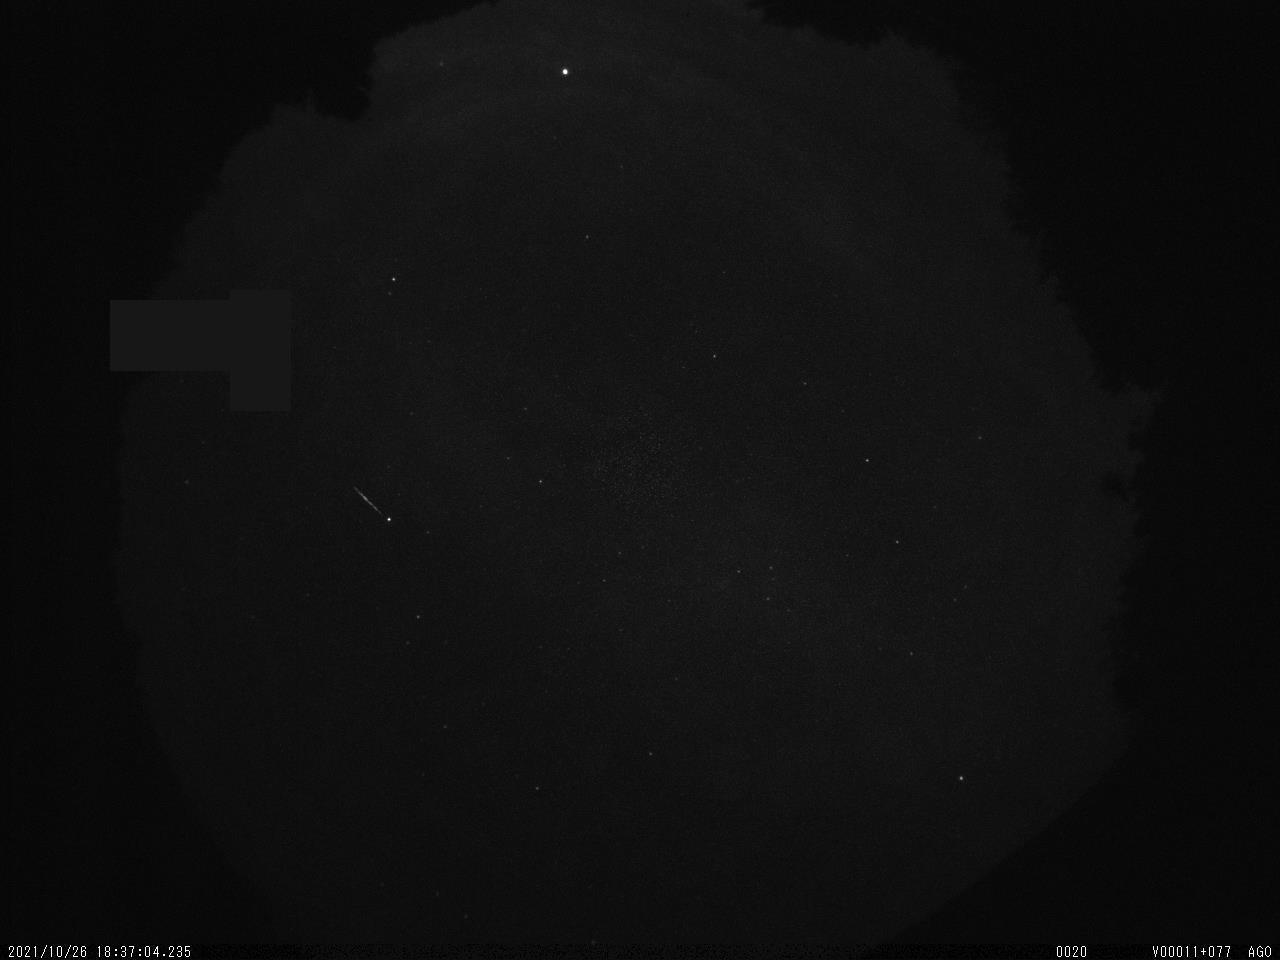meteor: (339, 477, 387, 522)
